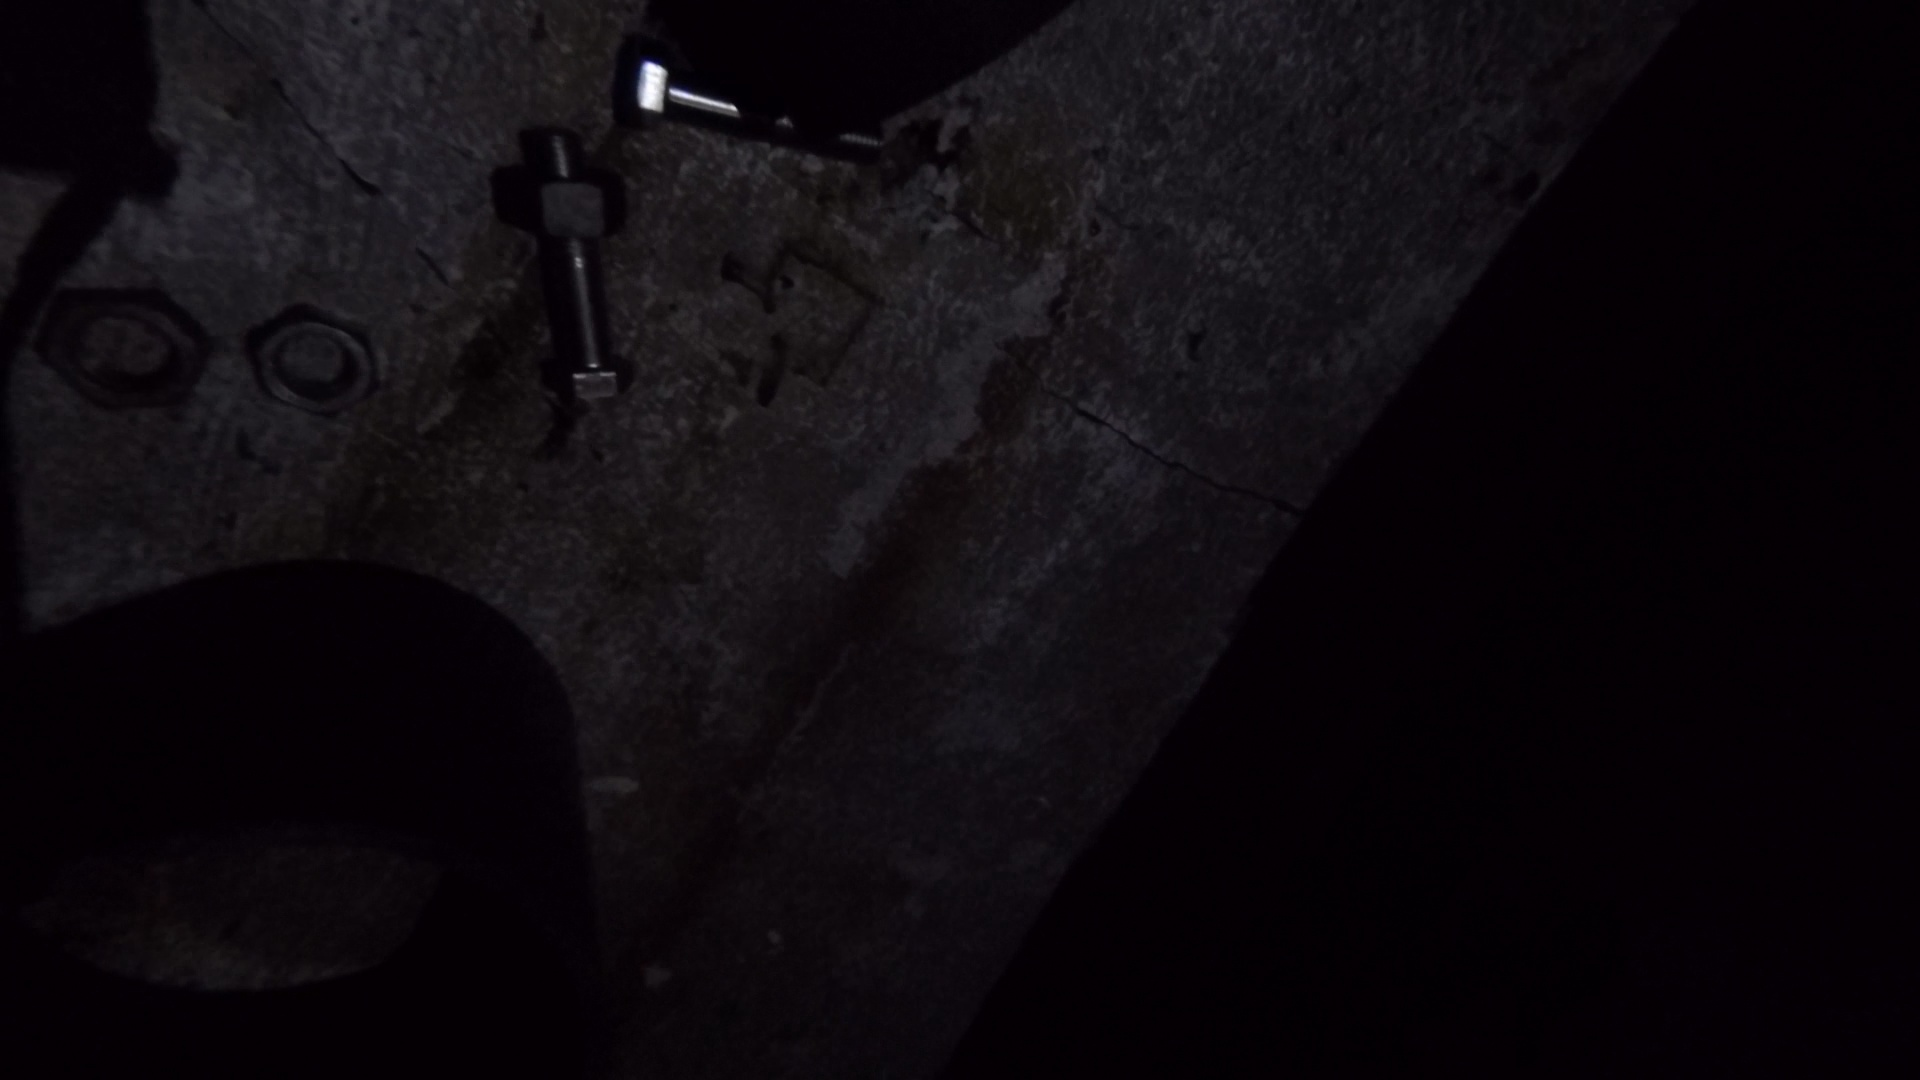bolt: (618, 45, 891, 183), (527, 125, 630, 409)
nut: (37, 280, 208, 411), (248, 299, 377, 427), (489, 167, 634, 237)
pipe: (26, 556, 615, 1080)
